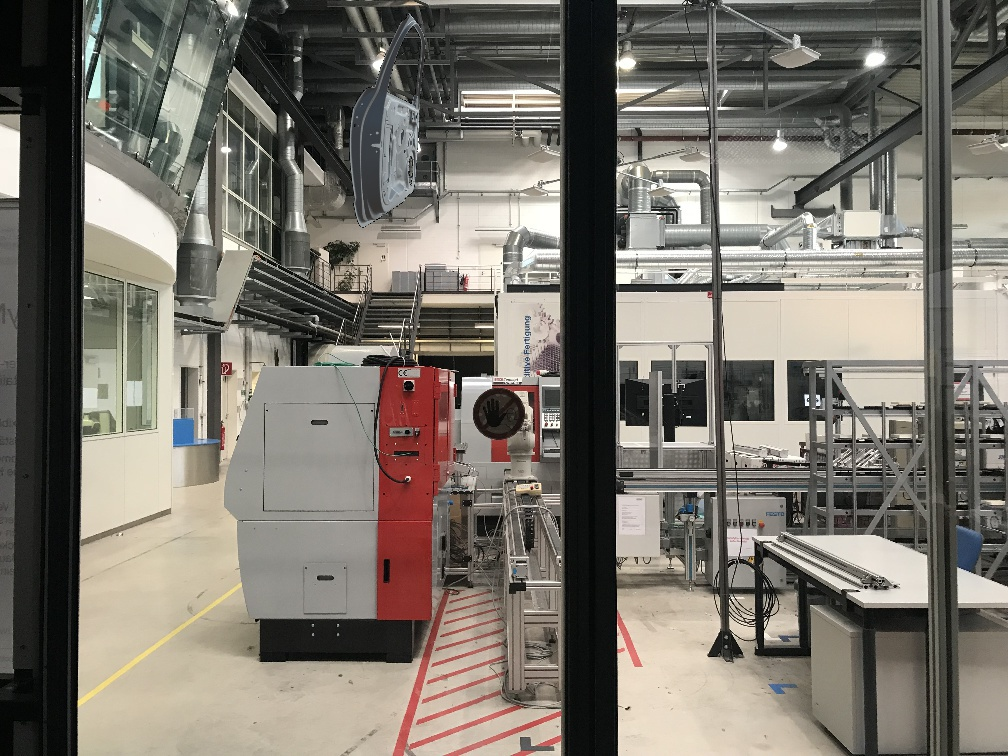car_door: (349, 13, 425, 227)
